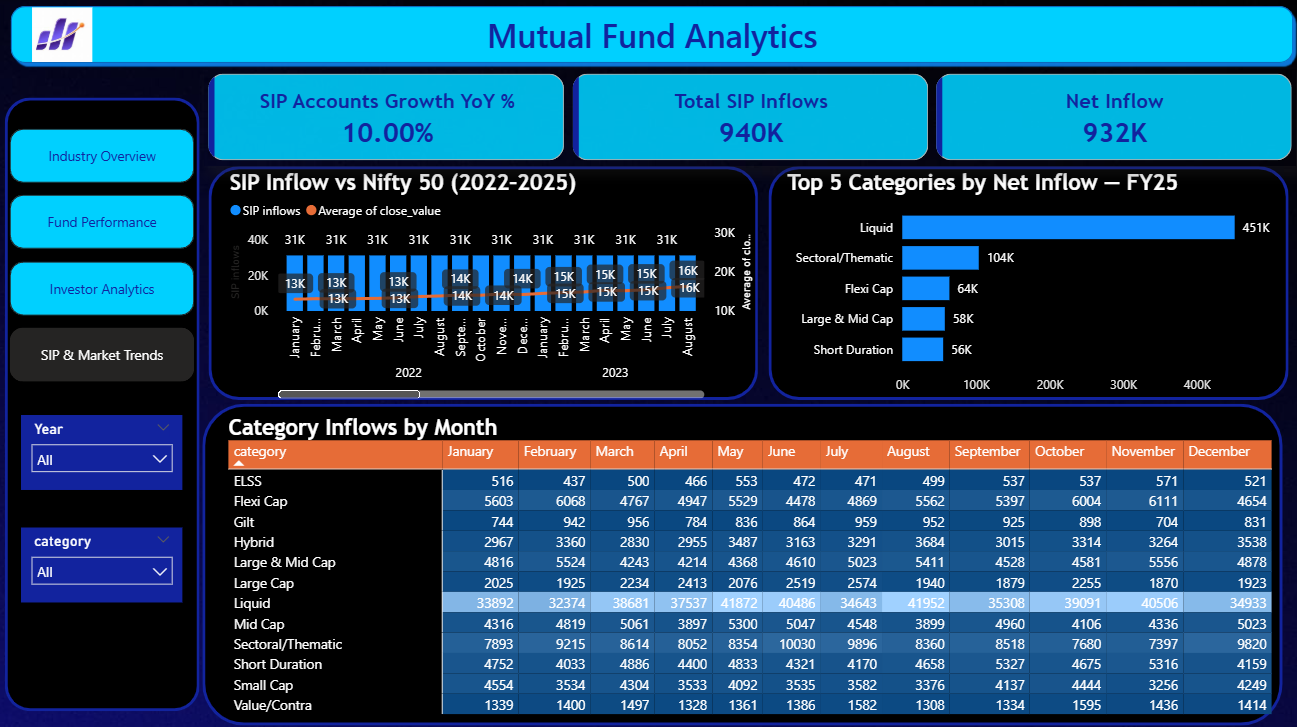

What the dashboard file says about the page in this screenshot:
{"tool":"powerbi","page":{"name":"SIP & Market Trends","canvas":[1280,720],"ordinal":3},"visuals":[{"type":"shape","box":[209.2,163,539.6,229.4],"z":0},{"type":"lineClusteredColumnComboChart","title":"SIP Inflow vs Nifty 50 (2022–2025)","fields":{"Category":["DateTable.Date.Variation.Date Hierarchy.Year","DateTable.Date.Variation.Date Hierarchy.Month"],"Y":["04_monthly_sip_inflows.SIP inflows"],"Y2":["Avg(10_benchmark_indices.close_value)"]},"box":[225.1,167.4,523.7,229.4],"z":1000},{"type":"shape","box":[202,396.8,1060.4,316],"z":2000},{"type":"pivotTable","title":"Category Inflows by Month","fields":{"Rows":["05_category_inflows.category"],"Columns":["05_category_inflows.month.Variation.Date Hierarchy.Month"],"Values":["Sum(05_category_inflows.net_inflow_crore)"]},"box":[223.6,406.9,1044.6,307.3],"z":3000},{"type":"shape","box":[758.9,163,510.7,229.4],"z":4000},{"type":"clusteredBarChart","title":"Top 5 Categories by Net Inflow — FY25","fields":{"Category":["05_category_inflows.category"],"Y":["Sum(05_category_inflows.net_inflow_crore)"]},"box":[771.9,167.4,497.8,229.4],"z":5000},{"type":"shape","box":[8.7,0,1271.1,67.8],"z":6000},{"type":"shape","box":[8.6,95.7,191.4,602.5],"z":7000},{"type":"pageNavigator","box":[13,127,181.8,249.6],"z":8000},{"type":"image","box":[26,2.9,77.9,63.5],"z":10000},{"type":"slicer","fields":{"Values":["DateTable.Date.Variation.Date Hierarchy.Year"]},"box":[24.5,406.9,158.7,73.6],"z":10001},{"type":"slicer","fields":{"Values":["05_category_inflows.category"]},"box":[24.5,518,158.7,73.6],"z":10002},{"type":"cardVisual","fields":{"Data":["04_monthly_sip_inflows.SIP Accounts Growth YoY %","Sum(04_monthly_sip_inflows.sip_inflow_crore)","Sum(05_category_inflows.net_inflow_crore)"]},"box":[203.4,67.8,1073.4,95.2],"z":10003}]}

Visuals, with their boxes in screenshot pixels (x1, y1, x2, y2), scaled from the page's 1280x720 canvas onto the 1297x727 screenshot:
shape: l=212, t=165, r=759, b=396
"SIP Inflow vs Nifty 50 (2022–2025)" lineClusteredColumnComboChart: l=228, t=169, r=759, b=401
shape: l=205, t=401, r=1279, b=720
"Category Inflows by Month" pivotTable: l=227, t=411, r=1285, b=721
shape: l=769, t=165, r=1286, b=396
"Top 5 Categories by Net Inflow — FY25" clusteredBarChart: l=782, t=169, r=1287, b=401
shape: l=9, t=0, r=1296, b=68
shape: l=9, t=97, r=203, b=705
pageNavigator: l=13, t=128, r=197, b=380
image: l=26, t=3, r=105, b=67
slicer - DateTable.Date.Variation.Date Hierarchy.Year: l=25, t=411, r=186, b=485
slicer - 05_category_inflows.category: l=25, t=523, r=186, b=597
cardVisual - 04_monthly_sip_inflows.SIP Accounts Growth YoY % x Sum(04_monthly_sip_inflows.sip_inflow_crore): l=206, t=68, r=1294, b=165
